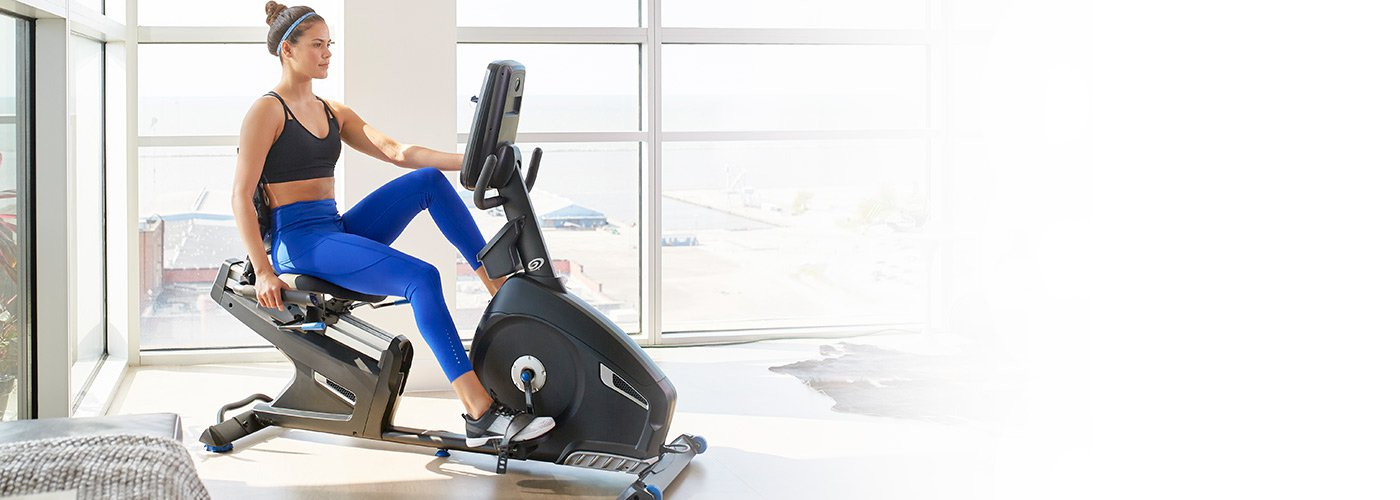gym_bike: (190, 47, 706, 500)
